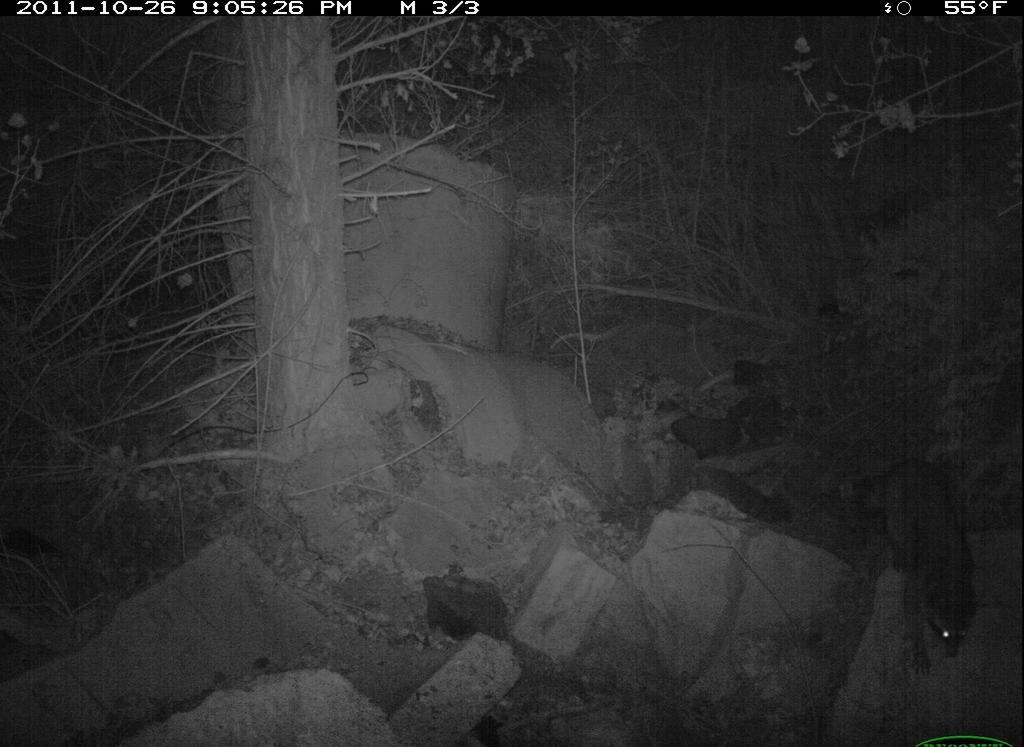raccoon: (854, 454, 991, 665)
